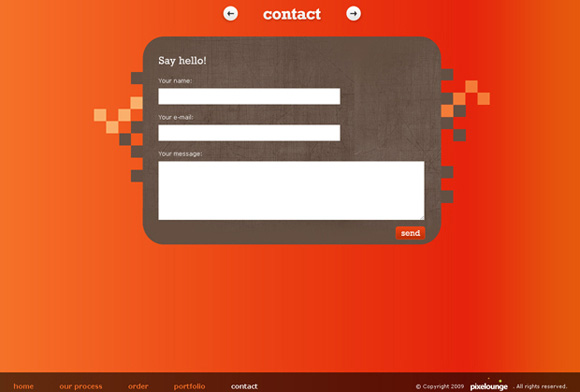_form_: (134, 26, 456, 253), (4, 190, 159, 362)
button: (395, 226, 425, 239)
field: (157, 159, 425, 221), (157, 87, 341, 106), (157, 123, 341, 142)
field_with_label: (156, 150, 426, 221), (156, 113, 342, 142), (156, 77, 341, 106)
